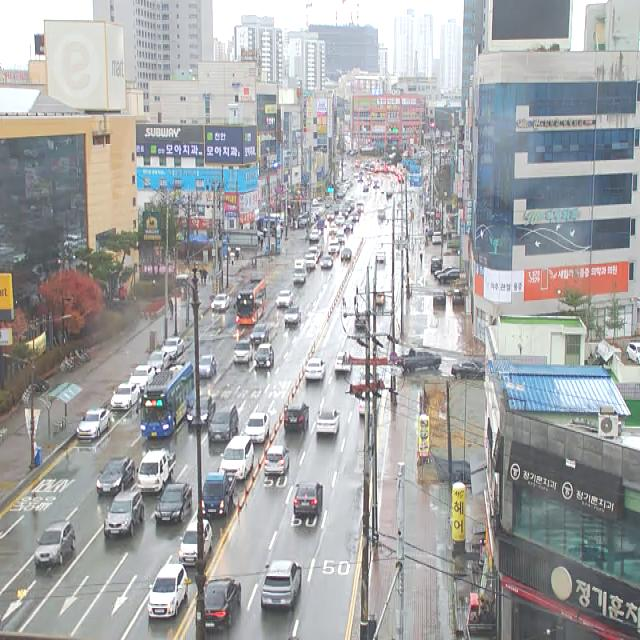Bus: (136, 362, 194, 438), (234, 279, 266, 324)
Car: (148, 564, 188, 619), (204, 577, 242, 630), (261, 560, 302, 608), (34, 521, 76, 566), (104, 491, 144, 537), (179, 519, 213, 566), (219, 436, 254, 481), (96, 456, 135, 494), (155, 483, 192, 523), (208, 404, 239, 441), (77, 406, 111, 439), (294, 482, 323, 518), (187, 394, 216, 426), (402, 350, 442, 372), (111, 382, 140, 410), (284, 402, 310, 431), (264, 446, 290, 475), (245, 413, 269, 443), (451, 362, 485, 379), (316, 410, 340, 434), (130, 366, 155, 389), (147, 351, 169, 374), (254, 344, 274, 369), (233, 338, 252, 364), (161, 338, 184, 359), (360, 392, 380, 416), (305, 359, 325, 381), (199, 354, 216, 378), (250, 324, 269, 345), (335, 352, 353, 372), (285, 305, 301, 327), (437, 269, 460, 284), (211, 294, 230, 312), (276, 291, 293, 309), (627, 343, 640, 364), (434, 267, 456, 279), (354, 312, 368, 329), (433, 289, 446, 306), (304, 254, 316, 270), (453, 290, 464, 306), (328, 240, 340, 254), (375, 290, 386, 305), (309, 246, 319, 262), (431, 259, 442, 273), (341, 247, 352, 261), (321, 256, 333, 268), (336, 230, 346, 244), (432, 232, 442, 245), (344, 220, 354, 233), (339, 205, 348, 219), (376, 250, 386, 262), (309, 230, 319, 242), (377, 208, 386, 220), (329, 223, 338, 235), (350, 212, 359, 222), (336, 216, 345, 226), (356, 202, 364, 213), (327, 210, 335, 220), (348, 199, 355, 209), (337, 190, 345, 198), (344, 203, 351, 212), (318, 246, 323, 256), (373, 181, 379, 189), (363, 185, 369, 192)
Truck: (136, 449, 176, 496), (202, 472, 236, 516), (293, 259, 306, 284), (317, 218, 327, 235)
